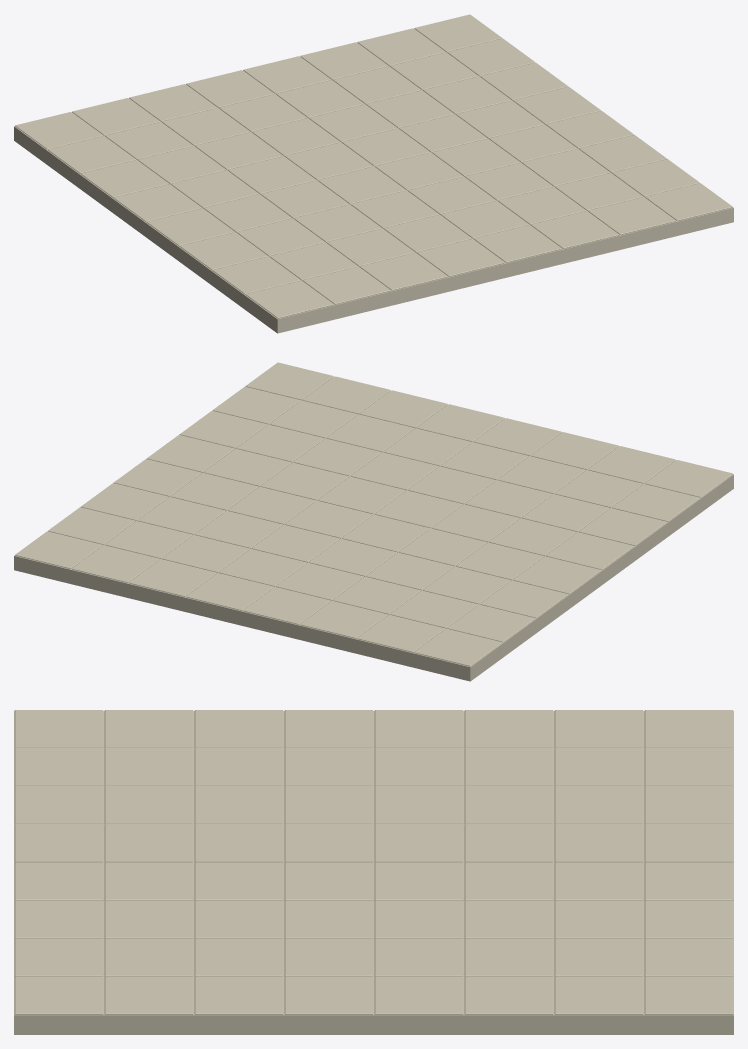
Rendered from district-1-1-0.glb.
The picture shows the model from 3 angles, top to bottom: view 1: azimuth 30°, elevation 25°; view 2: azimuth 150°, elevation 25°; view 3: azimuth 270°, elevation 25°; orthographic projection. The views are drawn at different scales.
Visible parts, largest first — view 1: stone.004; view 2: stone.004; view 3: stone.004.
Boxes of the visible parts, x1,y1,x2,y2 form: stone.004: (14, 14, 733, 333); stone.004: (14, 362, 733, 681); stone.004: (14, 710, 733, 1034).
Size of the model in its own units: 8 by 0.2598 by 8.
